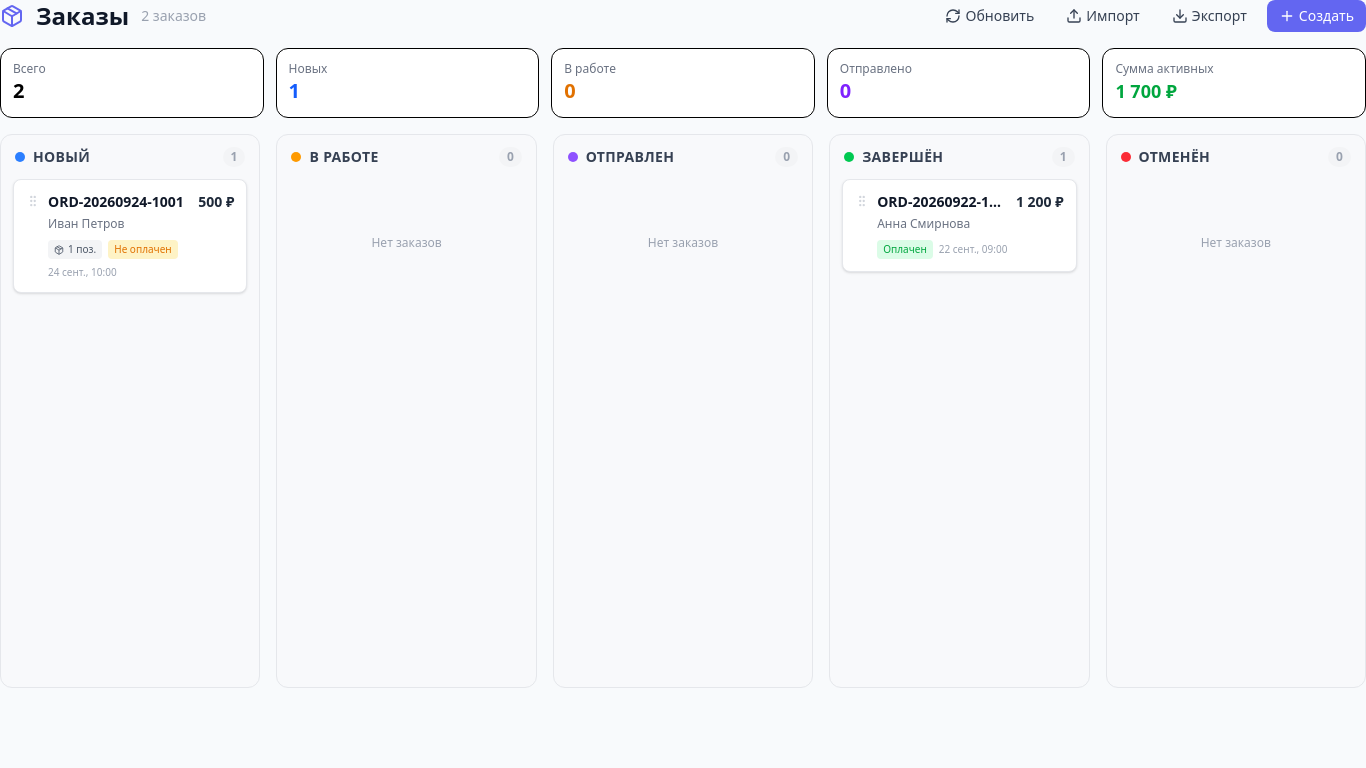
Test: Orders page › opens order detail modal on card click
Expected: the text "ORD-20260924-1001" is shown, [48, 192, 184, 212]
Click the button "ORD-20260924-1001" at (130, 236), box [13, 179, 247, 293]
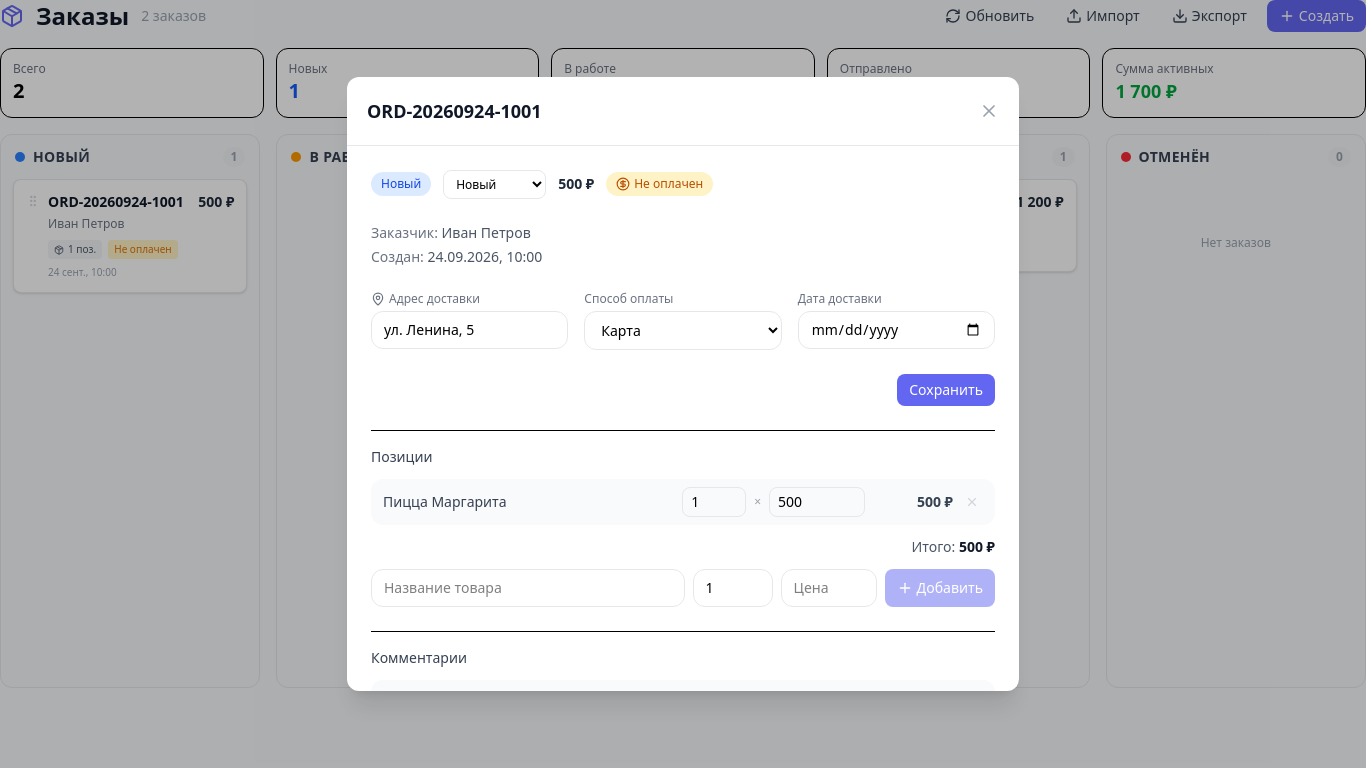
Expected: the text "Пицца Маргарита" is shown, [383, 492, 507, 511]
Expected: the text "Адрес доставки" is shown, [371, 290, 480, 307]
